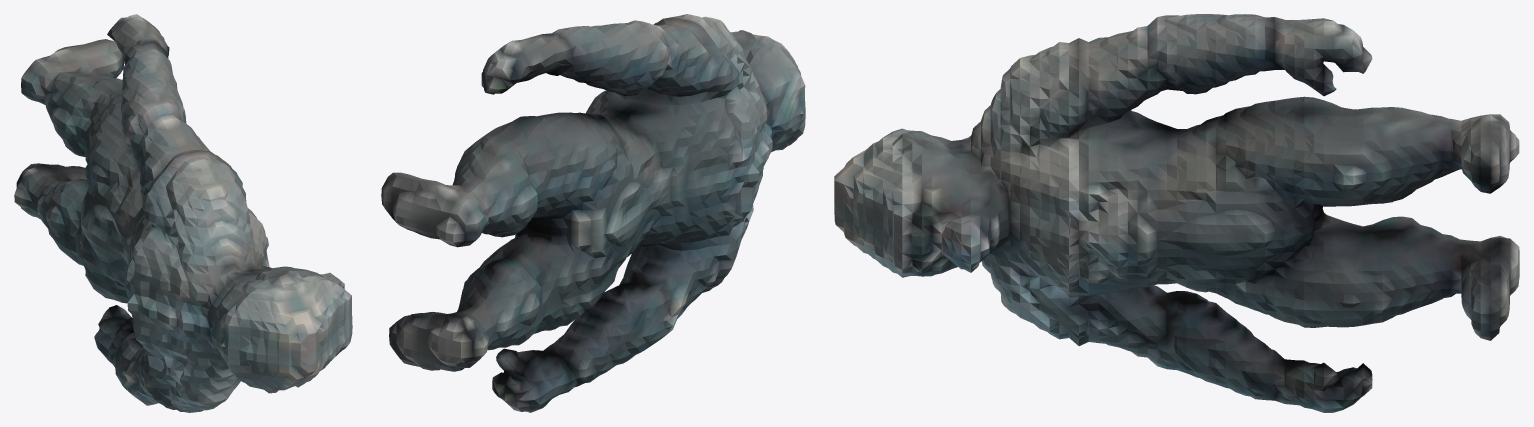
3 views of the same model, side by side, from view 1: azimuth 30°, elevation 25°; view 2: azimuth 150°, elevation 25°; view 3: azimuth 270°, elevation 25° (orthographic). The views are drawn at different scales.
Parts seen in each view (by area): view 1: world; view 2: world; view 3: world.
Part boxes in pixels (x1=…): world: x1=14, y1=14, x2=352, y2=412; world: x1=381, y1=14, x2=805, y2=412; world: x1=834, y1=14, x2=1519, y2=412.
Size of the model in its own units: 0.3266 by 0.6122 by 0.9584.
